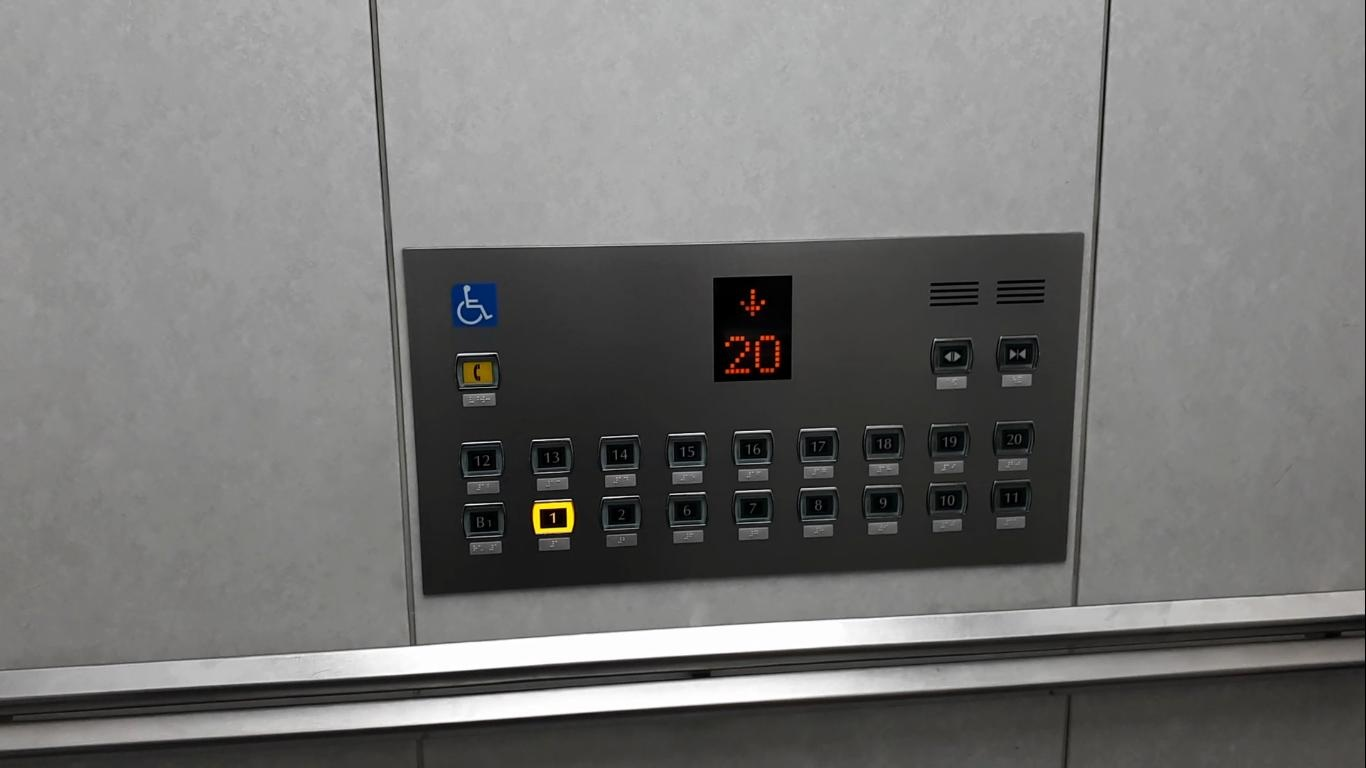1: (531, 498, 576, 535)
10: (925, 479, 969, 518)
11: (988, 477, 1034, 516)
12: (459, 438, 506, 481)
13: (528, 437, 574, 477)
14: (597, 434, 642, 473)
15: (665, 431, 709, 469)
16: (730, 428, 774, 466)
17: (796, 425, 841, 464)
18: (862, 422, 905, 462)
19: (926, 419, 972, 461)
2: (600, 494, 642, 532)
20: (990, 417, 1038, 459)
6: (665, 490, 709, 529)
7: (731, 488, 775, 526)
8: (796, 486, 839, 525)
9: (861, 482, 904, 522)
B1: (461, 500, 506, 539)
CH: (449, 280, 501, 329)
call: (453, 349, 505, 392)
close: (993, 333, 1043, 375)
led: (711, 273, 796, 384)
open: (929, 334, 978, 377)
